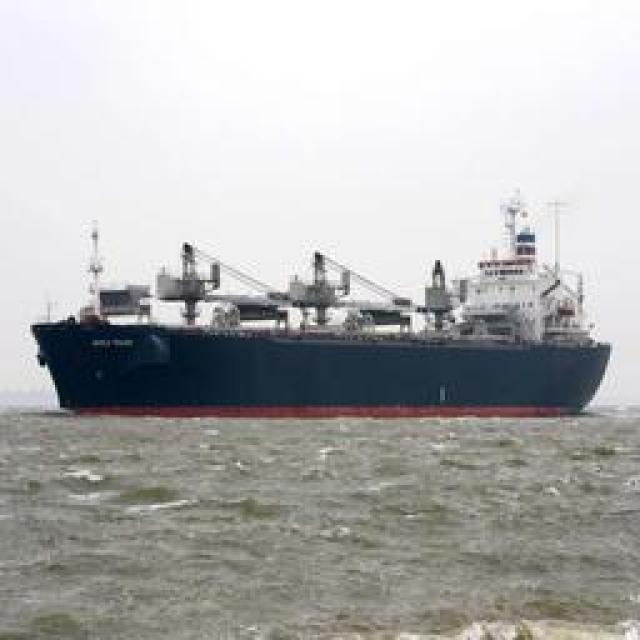CIV_Ship: (41, 190, 609, 415)
